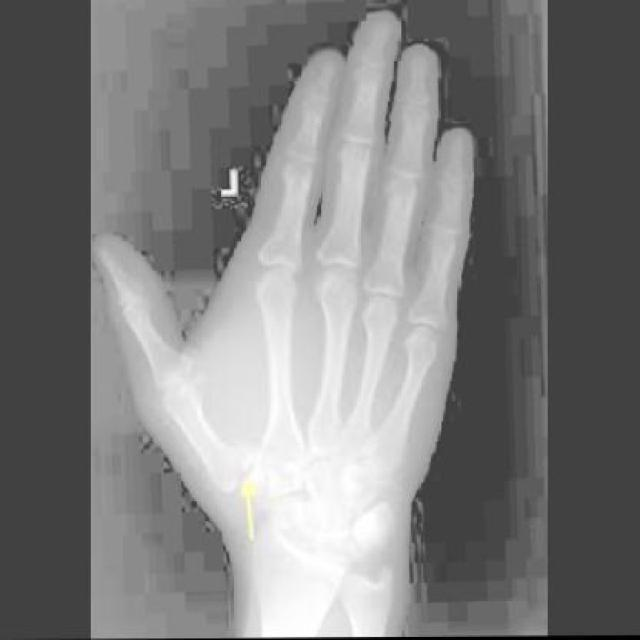Fracture: (222, 436, 270, 498)
